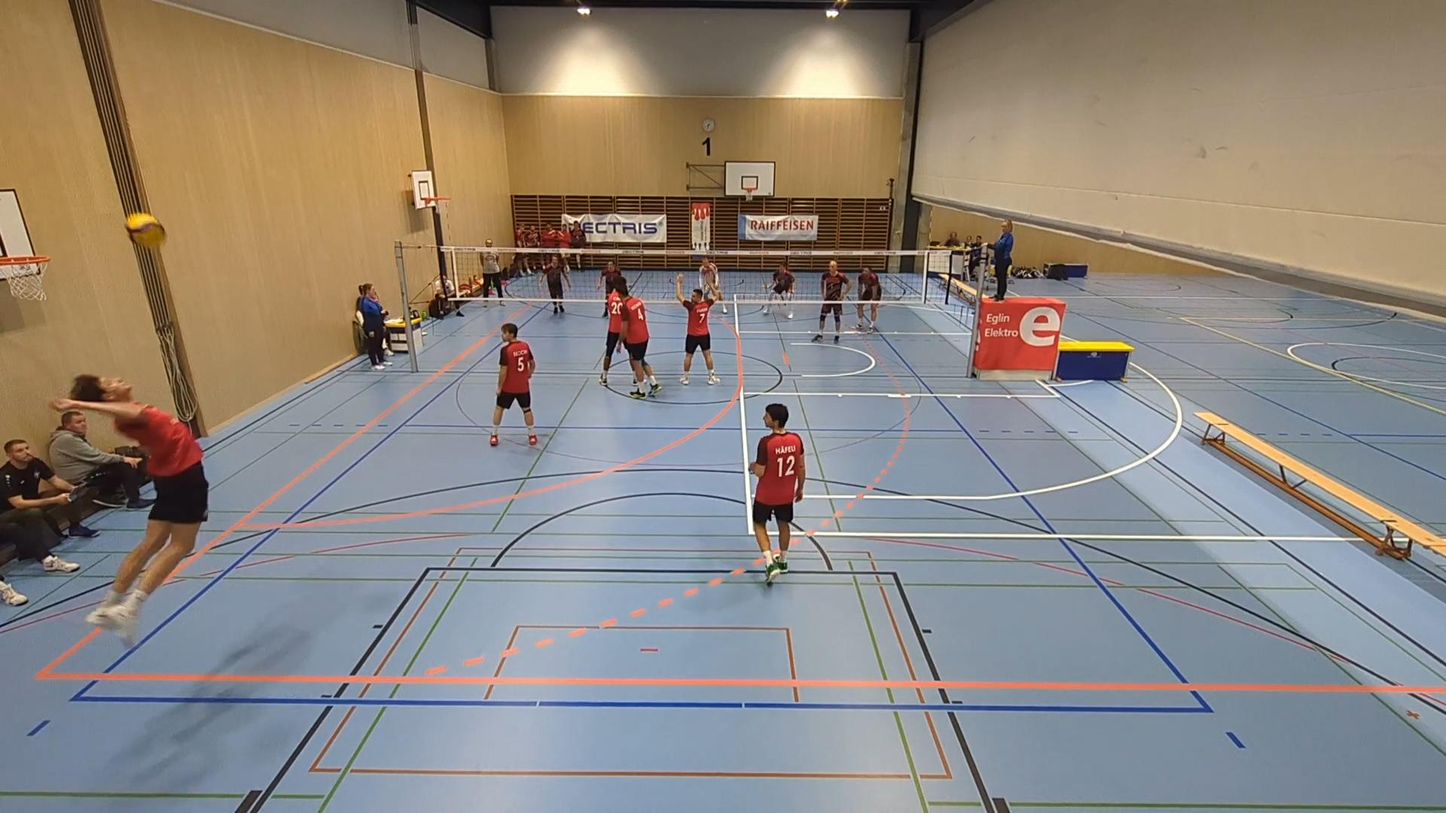battuta: (42, 373, 216, 629)
